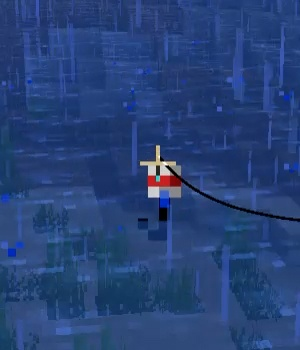up: (138, 159, 183, 247)
